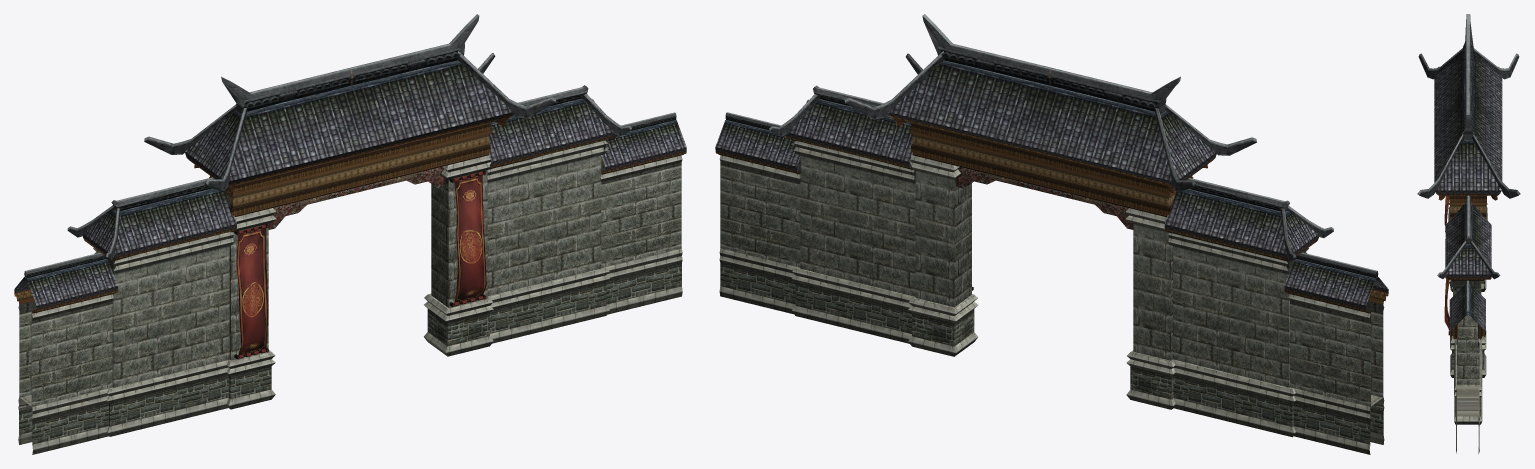
Rendered from b1s-002-inwall-01.fbx.
3 views of the same model, side by side, from view 1: azimuth 30°, elevation 25°; view 2: azimuth 150°, elevation 25°; view 3: azimuth 270°, elevation 25° (orthographic). The views are drawn at different scales.
Parts seen in each view (by area): view 1: b1s-002-inwall-01, b1s-002-inwall-02; view 2: b1s-002-inwall-01, b1s-002-inwall-02; view 3: b1s-002-inwall-01, b1s-002-inwall-02.
Boxes of the visible parts, x1,y1,x2,y2 form: b1s-002-inwall-01: (14, 14, 686, 454); b1s-002-inwall-02: (234, 166, 486, 359); b1s-002-inwall-01: (715, 14, 1388, 454); b1s-002-inwall-02: (956, 167, 1133, 290); b1s-002-inwall-01: (1417, 14, 1520, 453); b1s-002-inwall-02: (1444, 195, 1449, 335).
Size of the model in its own units: 26.85 by 12.81 by 4.59.
